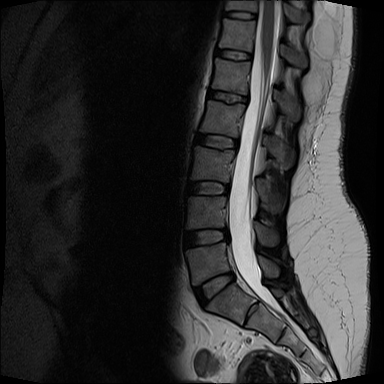Normal IVD: (188, 262, 240, 314), (179, 217, 235, 254), (198, 82, 253, 109), (182, 174, 234, 201), (188, 129, 244, 154), (207, 43, 256, 66), (220, 7, 261, 23)
